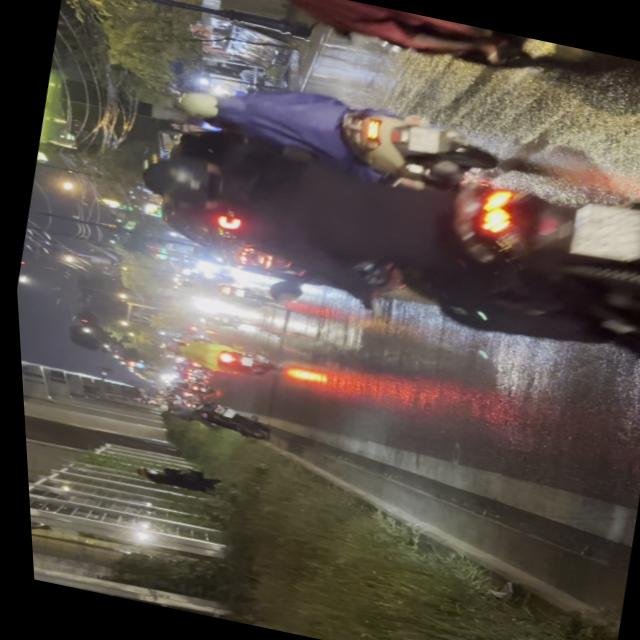helmet: (134, 147, 230, 213), (167, 84, 232, 125)
licenseplate: (117, 57, 640, 375), (160, 57, 523, 205), (195, 0, 640, 117)
nohelmet: (563, 196, 640, 265), (403, 121, 439, 153)
